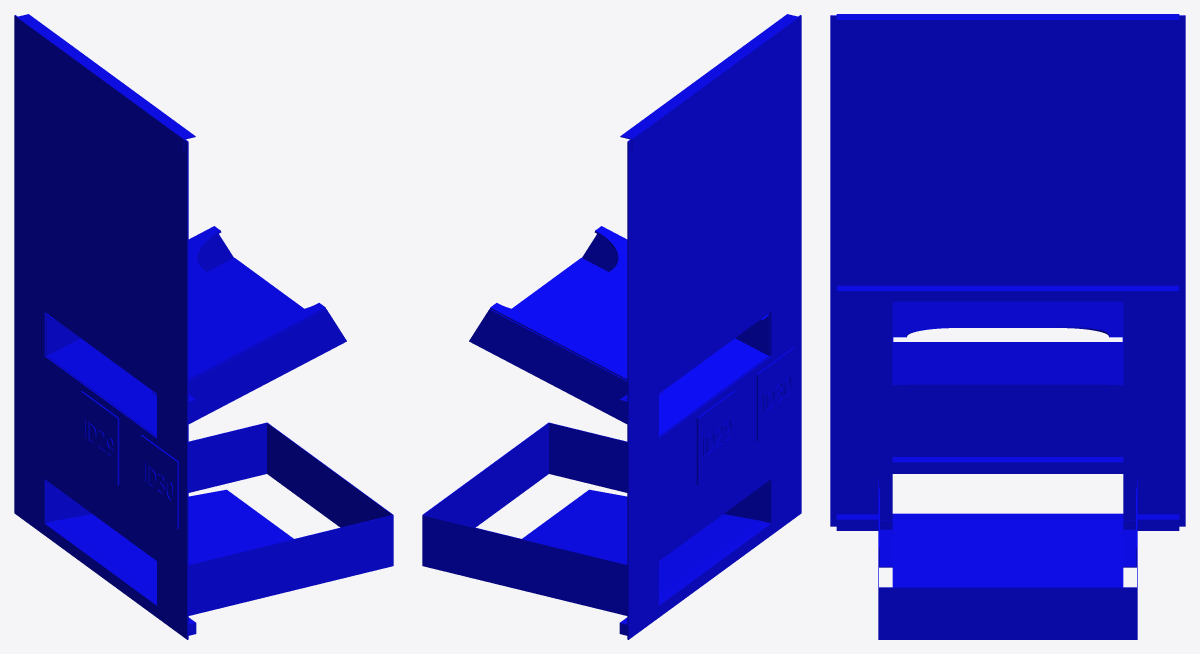
File: BLOCK CAD FIELD - BLOCK CAD- OUTPOST, BLUE.gltf
The picture shows the model from 3 angles, left to right: view 1: azimuth 30°, elevation 25°; view 2: azimuth 150°, elevation 25°; view 3: azimuth 270°, elevation 25°; orthographic projection. The views are drawn at different scales.
Parts seen in each view (by area): view 1: BLOCK CAD: OUTPOST, BLUE; view 2: BLOCK CAD: OUTPOST, BLUE; view 3: BLOCK CAD: OUTPOST, BLUE.
Boxes of the visible parts, x1,y1,x2,y2 form: BLOCK CAD: OUTPOST, BLUE: [14, 14, 393, 639]; BLOCK CAD: OUTPOST, BLUE: [422, 14, 801, 639]; BLOCK CAD: OUTPOST, BLUE: [830, 14, 1185, 639].
Bounding box in the file's own units: 0.9649 × 1.99 × 1.25.
